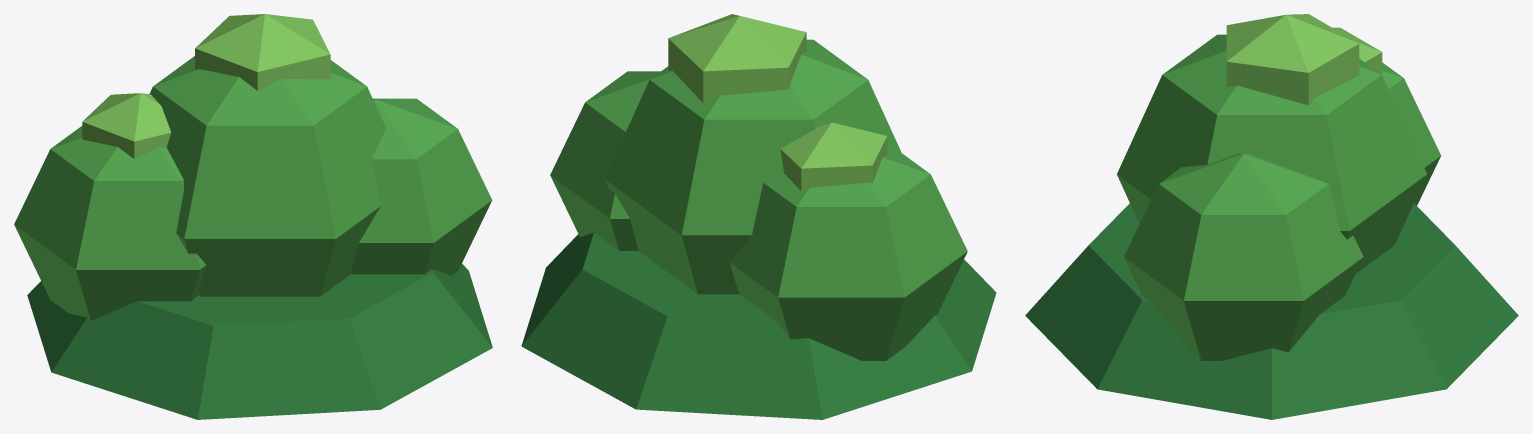
The model's file is wood_bush_a.fbx.
3 views of the same model, side by side, from view 1: azimuth 30°, elevation 25°; view 2: azimuth 150°, elevation 25°; view 3: azimuth 270°, elevation 25° (orthographic). The views are drawn at different scales.
Visible parts, largest first — view 1: wood_bush_a__leaf, wood_bush_a__leaf_dark, wood_bush_a__leaf_light; view 2: wood_bush_a__leaf, wood_bush_a__leaf_dark, wood_bush_a__leaf_light; view 3: wood_bush_a__leaf, wood_bush_a__leaf_dark, wood_bush_a__leaf_light.
Boxes of the visible parts, x1,y1,x2,y2 form: wood_bush_a__leaf: (14,56,492,320); wood_bush_a__leaf_dark: (27,264,492,419); wood_bush_a__leaf_light: (82,14,330,159); wood_bush_a__leaf: (550,39,967,360); wood_bush_a__leaf_dark: (521,232,996,419); wood_bush_a__leaf_light: (668,14,887,191); wood_bush_a__leaf: (1117,34,1441,360); wood_bush_a__leaf_dark: (1025,203,1518,419); wood_bush_a__leaf_light: (1226,14,1382,105).
Bounding box in the file's own units: 350 × 240 × 350.
